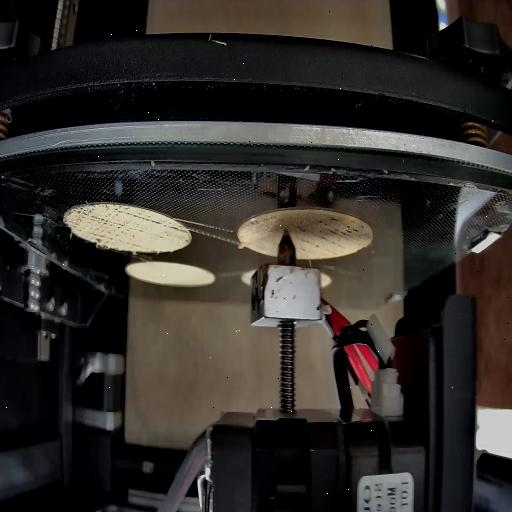under_extrusion: (66, 210, 164, 251), (298, 216, 368, 250), (169, 222, 191, 238)
